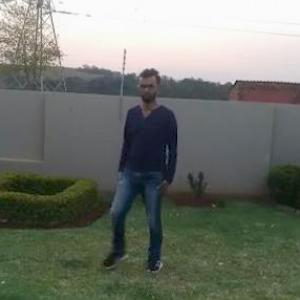follow: (122, 68, 189, 276)
